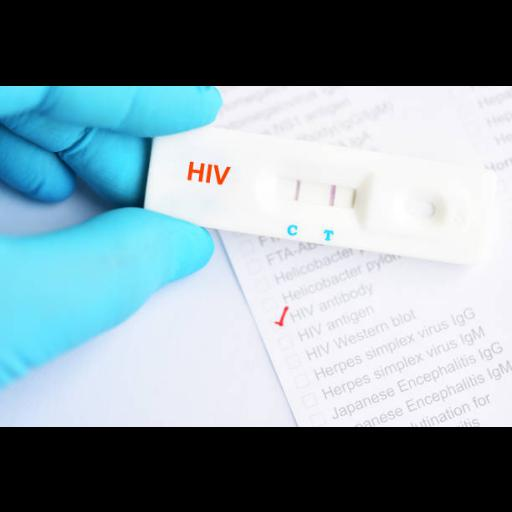Pos: (143, 116, 493, 263)
